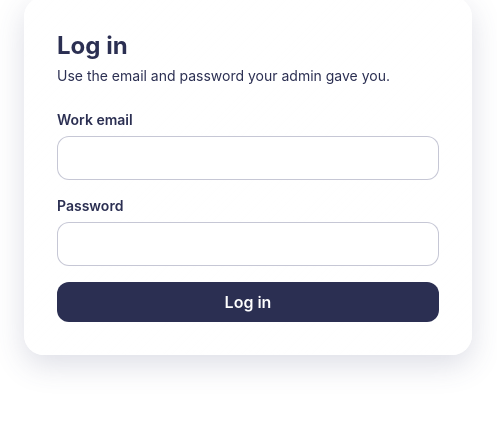
Test: LoginPage › shows a generic message when the server cannot be reached
The width and height of the screenshot is (497, 426).
Type "asha@atomplus.in" into the field labelled "Work email" at {"x": 248, "y": 158}, box [57, 136, 439, 180]
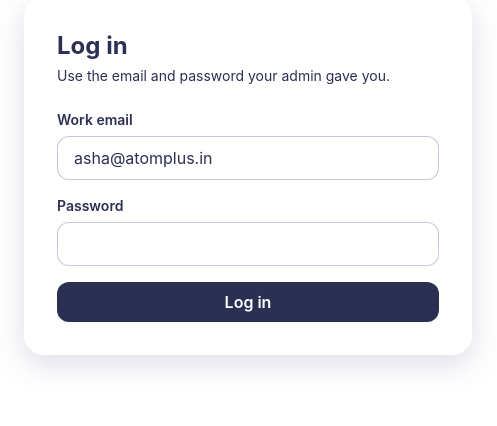
Type "Secret#1" into the password field labelled "Password" at {"x": 248, "y": 244}, box [57, 222, 439, 266]
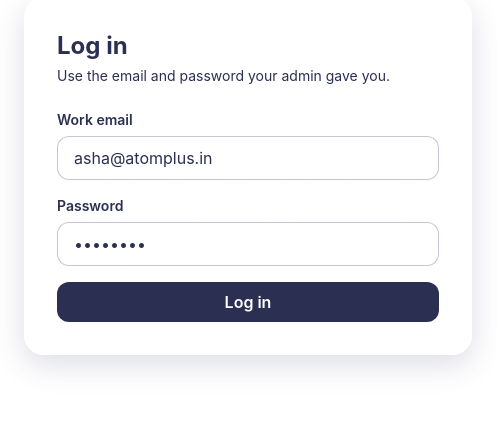
Click the button "Log in" at {"x": 248, "y": 302}, box [57, 282, 439, 322]
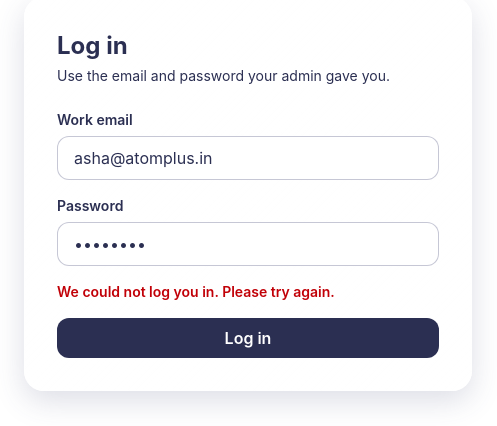
Expected: the message reads "We could not log you in. Please try again.", [57, 283, 335, 300]
